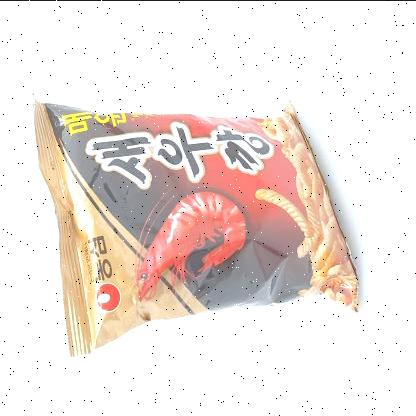Others: (25, 78, 366, 359)
